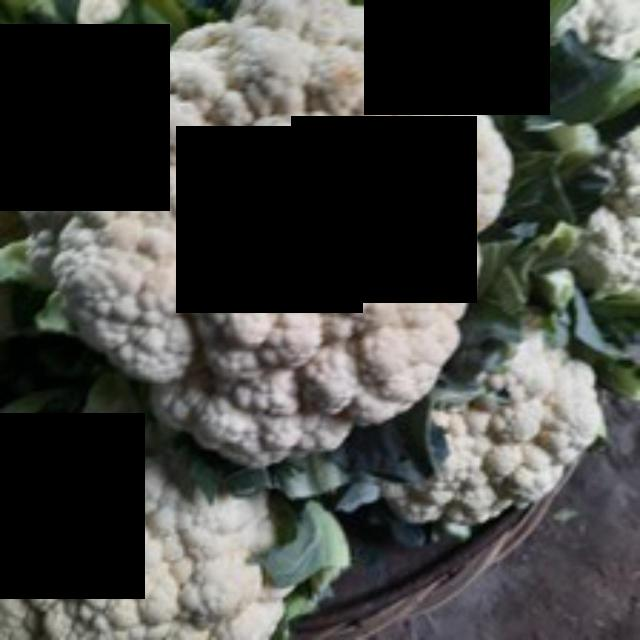cauliflower: (9, 0, 519, 482)
